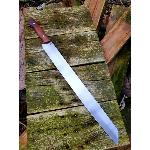Golok: (27, 16, 123, 146)
